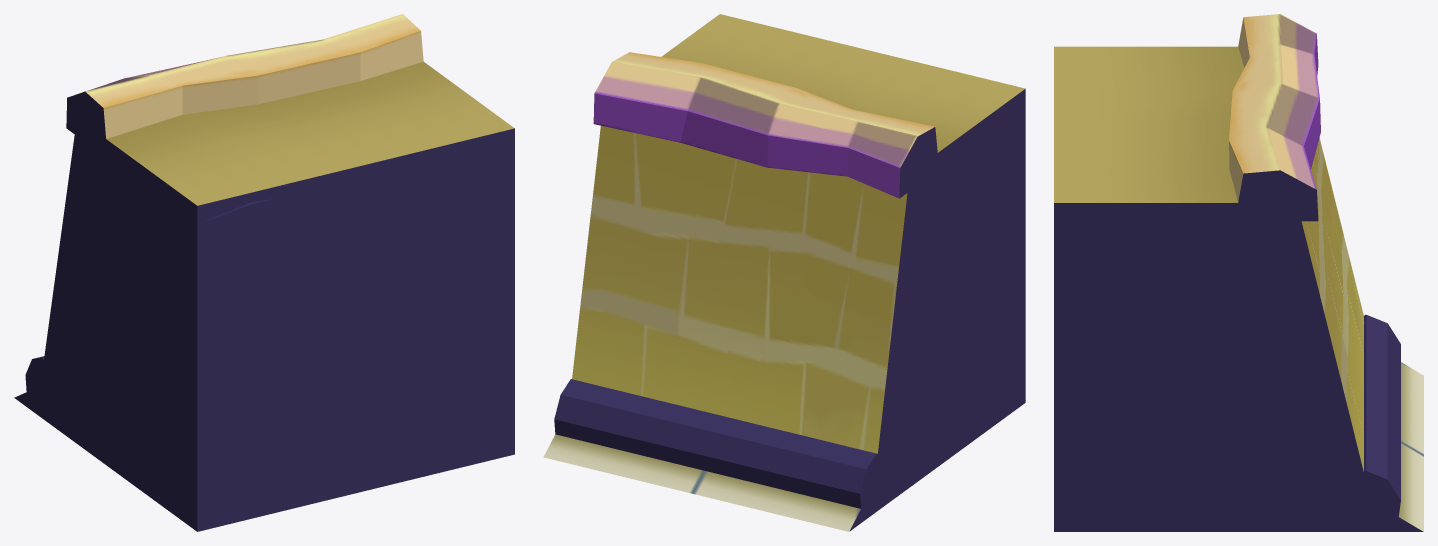
The model's file is TileSet_ParedHorizontal06.fbx.
3 views of the same model, side by side, from view 1: azimuth 30°, elevation 25°; view 2: azimuth 150°, elevation 25°; view 3: azimuth 270°, elevation 25° (orthographic). The views are drawn at different scales.
Visible parts, largest first — view 1: Int_2_Wall_Hor_Mid_4133065096017444685; view 2: Int_2_Wall_Hor_Mid_4133065096017444685; view 3: Int_2_Wall_Hor_Mid_4133065096017444685.
Part boxes in pixels (x1,y1,x2,y2): Int_2_Wall_Hor_Mid_4133065096017444685: [14, 14, 514, 531]; Int_2_Wall_Hor_Mid_4133065096017444685: [543, 14, 1025, 531]; Int_2_Wall_Hor_Mid_4133065096017444685: [1054, 14, 1423, 531].
Size of the model in its own units: 1 by 1.08 by 1.
Materials: 1 (1 with a texture image).
